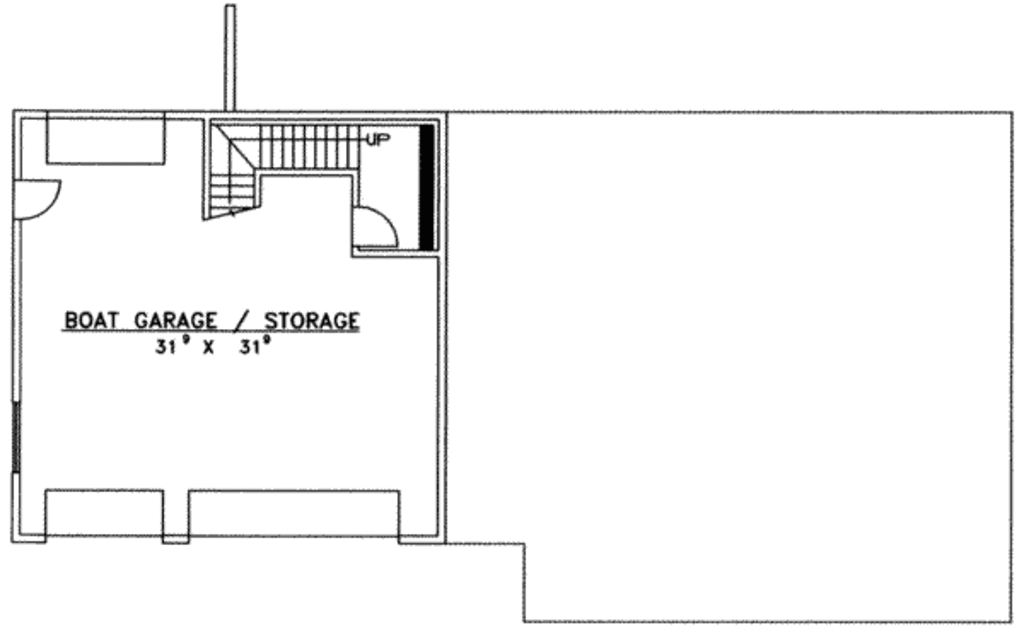door: (13, 177, 67, 224), (353, 199, 396, 249)
stairs: (194, 120, 357, 230)
window: (13, 400, 21, 472)
